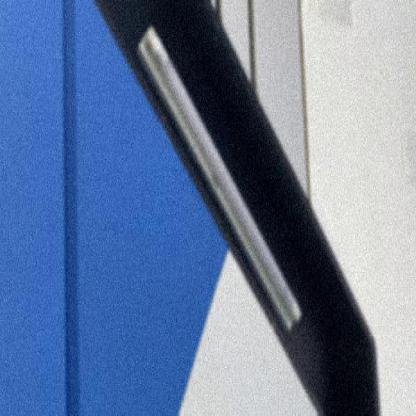light_off: (132, 17, 306, 347)
